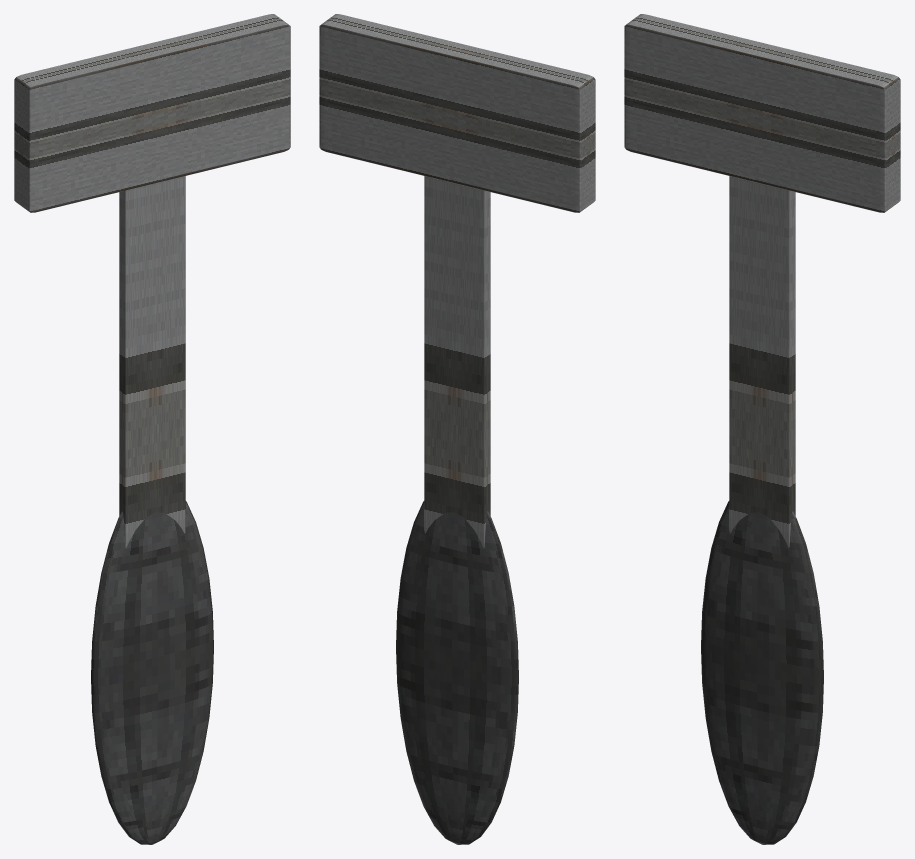
File: squeegee.glb
3 renders of one model, left to right at view 1: azimuth 30°, elevation 25°; view 2: azimuth 150°, elevation 25°; view 3: azimuth 330°, elevation 25°, orthographic.
Parts seen in each view (by area): view 1: head, grip, shaft; view 2: head, grip, shaft; view 3: head, grip, shaft.
Part boxes in pixels (x1=…): head: x1=14, y1=14, x2=290, y2=212; grip: x1=91, y1=501, x2=213, y2=844; shaft: x1=119, y1=176, x2=185, y2=547; head: x1=319, y1=14, x2=595, y2=212; grip: x1=396, y1=501, x2=518, y2=844; shaft: x1=424, y1=176, x2=490, y2=547; head: x1=624, y1=14, x2=900, y2=212; grip: x1=701, y1=501, x2=823, y2=844; shaft: x1=729, y1=176, x2=795, y2=547.
Size of the model in its own units: 0.5 by 1.45 by 0.05.
Materials: 2 (2 with a texture image).
